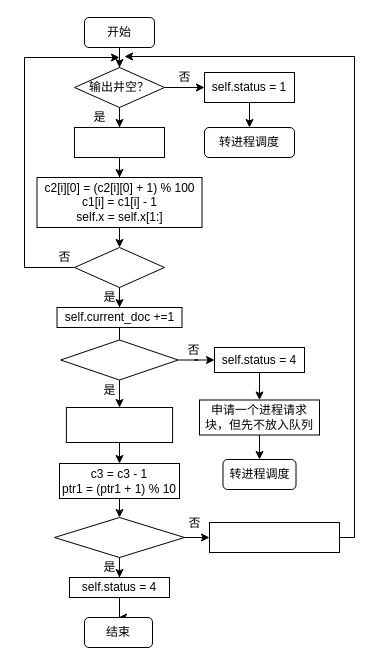
Some shapes in this 380 by 665 pixel diagram are drawn without their labels. Here are the shapes that lost their labels. From the top down, the centre of each, then its label:
At pixel 119 142: "把文件里的字符输出到输出井".
At pixel 119 267: "self.x空？".
At pixel 119 359: "有空闲输出块？".
At pixel 119 424: "申请一个进程请求块，放入队列".
At pixel 119 537: "所有文件都输出完毕？".
At pixel 274 537: "更新x，读下一个文件".
